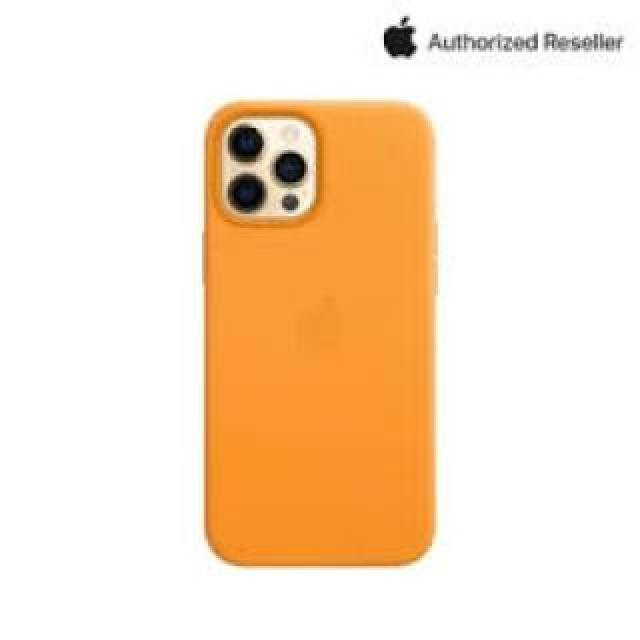smart phone: (184, 85, 486, 579)
